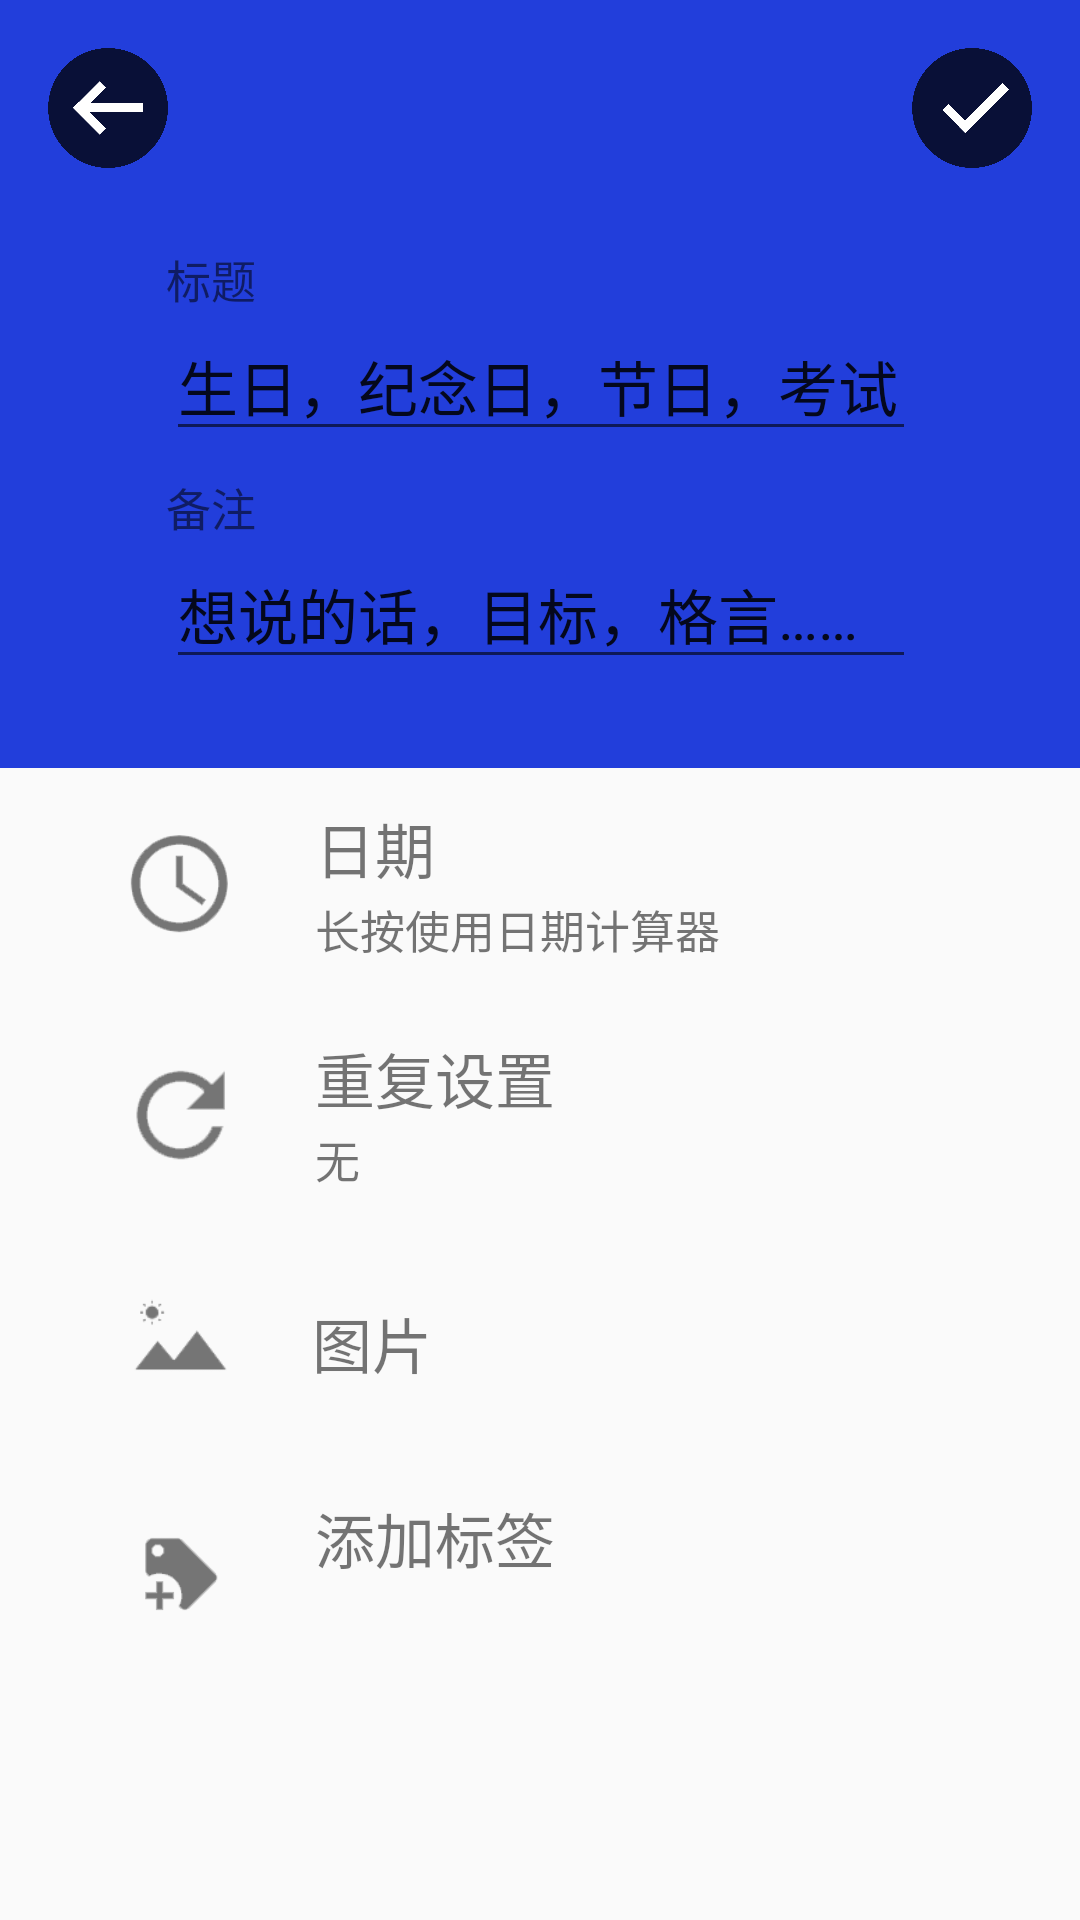

Screen size 1080 x 1920. Icon name, then its center in pixels as [x,y]:
back: [108,108]
label: [181,1574]
period: [180,1115]
time: [179,883]
